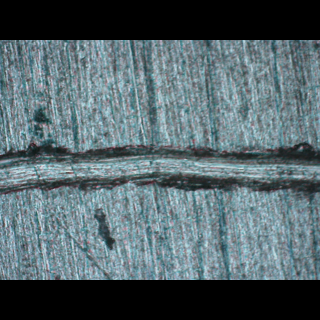d: (0, 140, 317, 200)
